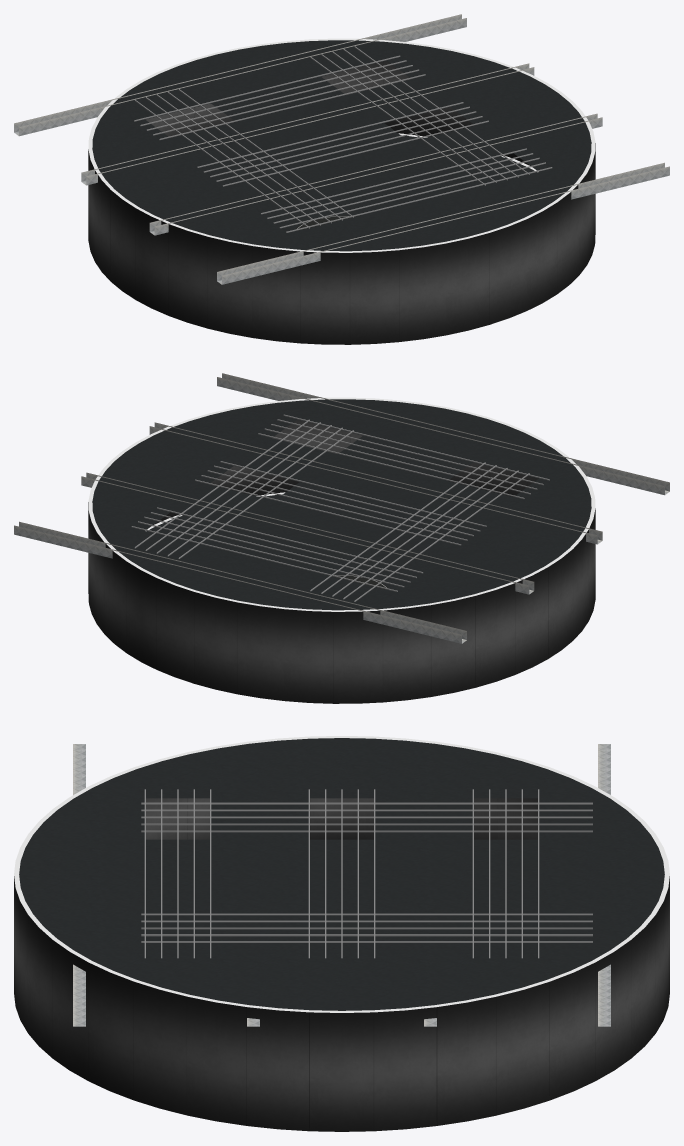
File: GarageShowroom.fbx
3 renders of one model, top to bottom at view 1: azimuth 30°, elevation 25°; view 2: azimuth 150°, elevation 25°; view 3: azimuth 270°, elevation 25°, orthographic. The views are drawn at different scales.
Parts seen in each view (by area): view 1: Roof, Walls, RoofWindows, Floor, Ventilation4, Ventilation3, Underlights3, Ventilation, Ventilation2; view 2: Roof, Walls, RoofWindows, Floor, Ventilation3, Ventilation4, Underlights3, Ventilation2, Ventilation; view 3: Roof, Walls, RoofWindows, Floor, Underlights3, Ventilation4, Ventilation3.
Boxes of the visible parts, x1,y1,x2,y2 form: Roof: (92,40,591,251); Walls: (88,60,595,344); RoofWindows: (134,46,552,232); Floor: (209,135,536,228); Ventilation4: (217,162,669,284); Ventilation3: (14,14,466,136); Underlights3: (88,38,595,252); Ventilation: (149,113,602,235); Ventilation2: (81,63,534,185); Roof: (92,399,591,610); Walls: (88,419,595,703); RoofWindows: (131,414,549,601); Floor: (147,494,474,587); Ventilation3: (14,521,466,643); Ventilation4: (217,373,669,495); Underlights3: (88,397,595,611); Ventilation2: (81,472,534,594); Ventilation: (149,422,602,544); Roof: (19,738,664,1010); Walls: (14,798,669,1131); RoofWindows: (141,789,592,958); Floor: (146,909,537,950); Underlights3: (14,736,669,1012); Ventilation4: (73,744,85,1026); Ventilation3: (598,744,610,1026).
Bounding box in the file's own units: 10197 × 2044 × 10000.
Materials: 8 (4 with a texture image).
